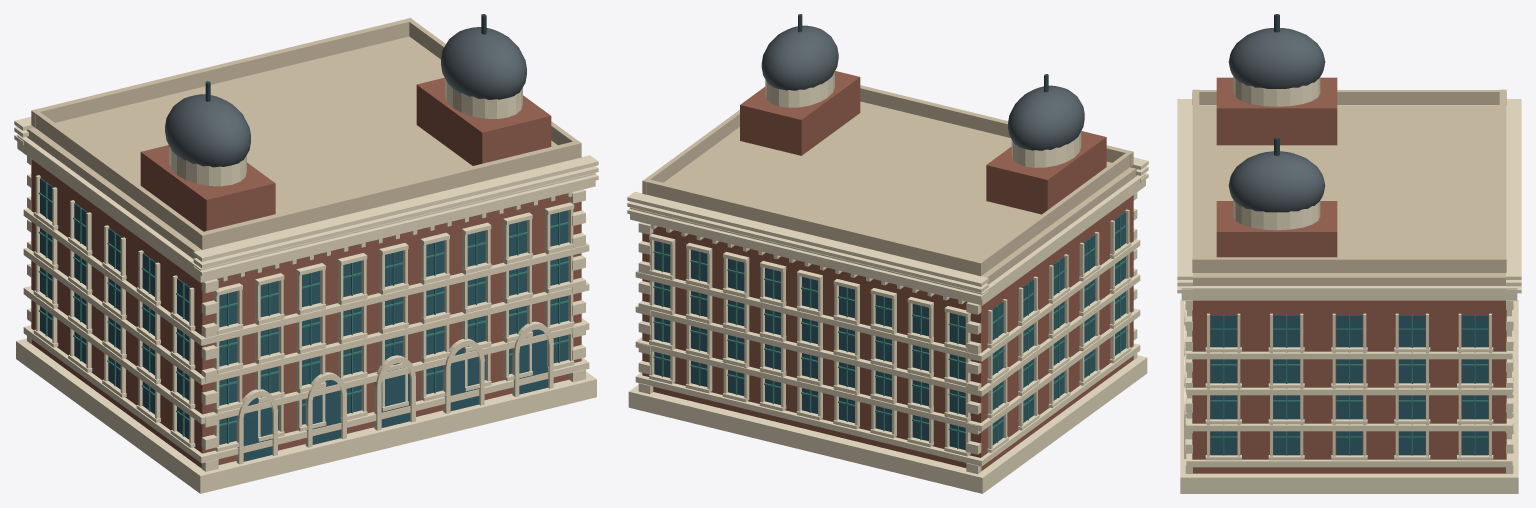
The model's file is great-northern-telegraph.glb.
3 renders of one model, left to right at view 1: azimuth 30°, elevation 25°; view 2: azimuth 150°, elevation 25°; view 3: azimuth 270°, elevation 25°, orthographic. The views are drawn at different scales.
Visible parts, largest first — view 1: great-northern-telegraph; view 2: great-northern-telegraph; view 3: great-northern-telegraph.
Part boxes in pixels (left/top/right/bottom): great-northern-telegraph: left=14, top=14, right=598, bottom=493; great-northern-telegraph: left=627, top=14, right=1148, bottom=493; great-northern-telegraph: left=1177, top=14, right=1521, bottom=493.
Bounding box in the file's own units: 27.58 × 23.8 × 22.61.
